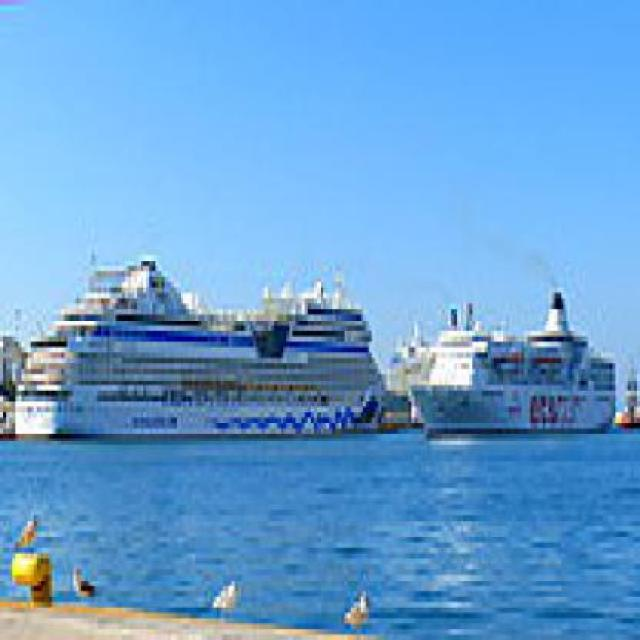cruise: (1, 233, 404, 458), (401, 283, 632, 451)
